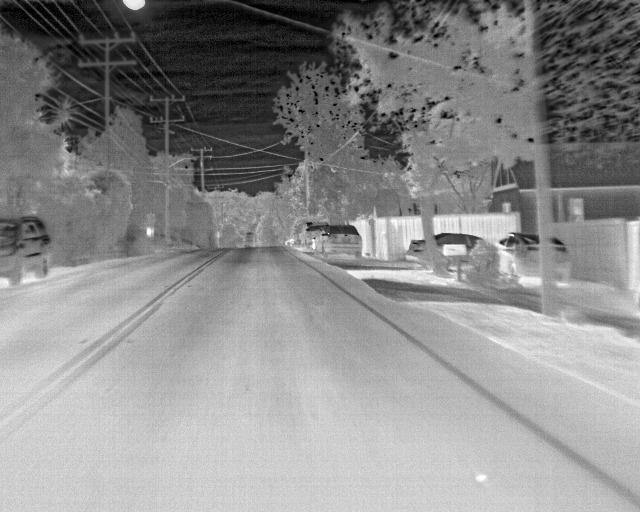car: (0, 216, 51, 287), (497, 233, 542, 280), (314, 223, 364, 260), (434, 230, 487, 259), (552, 236, 572, 282), (299, 221, 330, 248), (403, 238, 423, 268)
